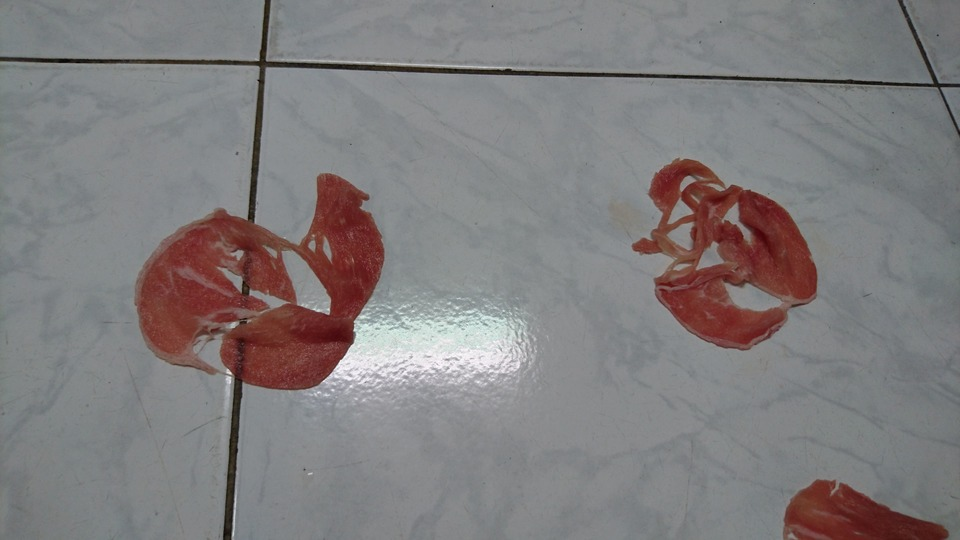restructured meat: (131, 168, 384, 393), (632, 152, 824, 355)
